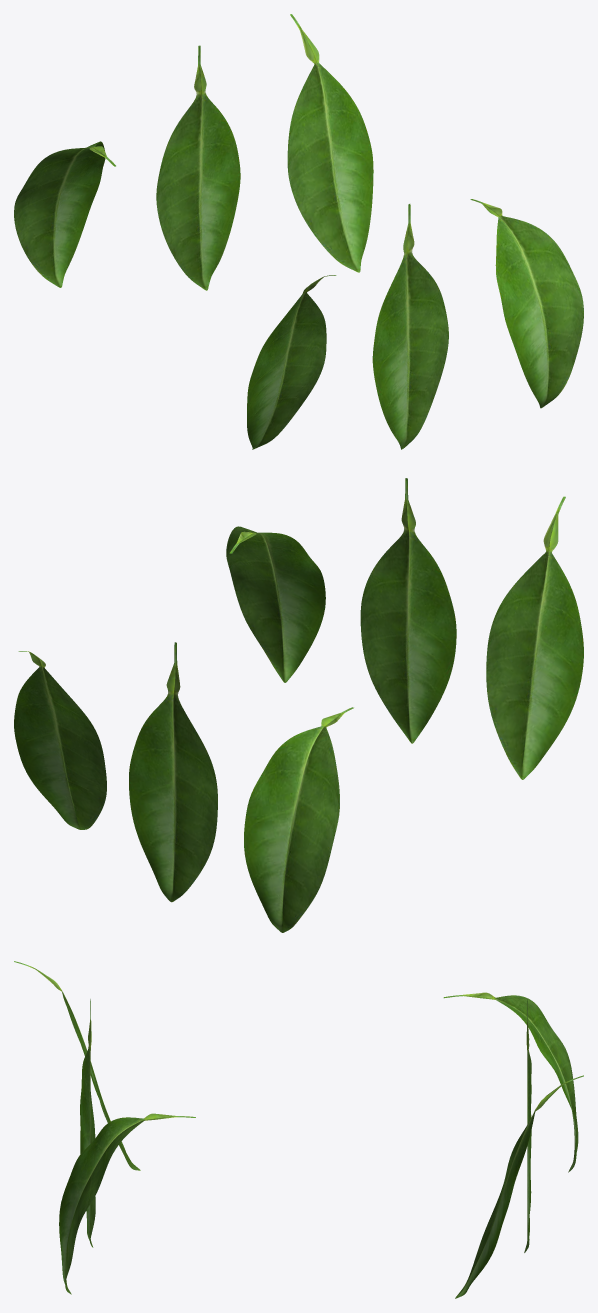
The model's file is hojas.obj.
The picture shows the model from 3 angles, top to bottom: view 1: azimuth 30°, elevation 25°; view 2: azimuth 150°, elevation 25°; view 3: azimuth 270°, elevation 25°; orthographic projection. The views are drawn at different scales.
Parts seen in each view (by area): view 1: LEAF:Mesh, Mesh; view 2: Mesh, LEAF:Mesh; view 3: Mesh, LEAF:Mesh.
Part boxes in pixels (x1=…): LEAF:Mesh: x1=14, y1=14, x2=373, y2=290; Mesh: x1=247, y1=199, x2=583, y2=449; Mesh: x1=226, y1=478, x2=583, y2=779; LEAF:Mesh: x1=14, y1=642, x2=353, y2=932; Mesh: x1=14, y1=961, x2=195, y2=1294; LEAF:Mesh: x1=443, y1=992, x2=583, y2=1298.
Size of the model in its own units: 1.3 by 0.9228 by 1.88.
Materials: 1 (1 with a texture image).
